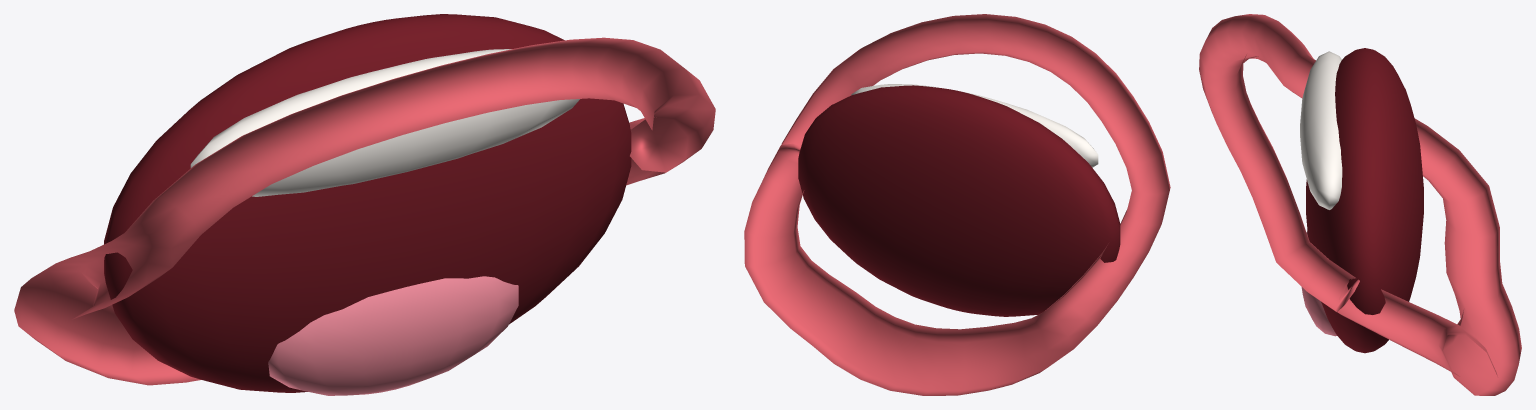
The model's file is mouth-laugh.glb.
3 views of the same model, side by side, from view 1: azimuth 30°, elevation 25°; view 2: azimuth 150°, elevation 25°; view 3: azimuth 270°, elevation 25° (orthographic). The views are drawn at different scales.
Parts seen in each view (by area): view 1: inside, lips, tongue, teeth; view 2: inside, lips, teeth; view 3: lips, inside, teeth, tongue.
Boxes of the visible parts, x1,y1,x2,y2 form: inside: (104, 14, 631, 392); lips: (14, 37, 715, 385); tongue: (268, 276, 518, 395); teeth: (190, 49, 579, 196); inside: (798, 85, 1120, 316); lips: (744, 14, 1170, 395); teeth: (851, 84, 1098, 167); lips: (1199, 14, 1521, 395); inside: (1306, 48, 1423, 353); teeth: (1300, 51, 1342, 209); tongue: (1301, 231, 1336, 336).
Bounding box in the file's own units: 0.21 × 0.1476 × 0.136.
